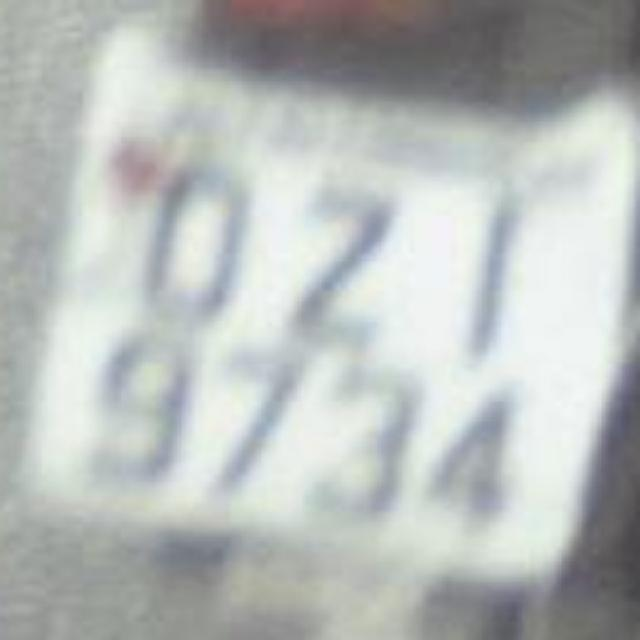3: (271, 329, 424, 536)
4: (396, 356, 532, 564)
7: (184, 315, 311, 520)
O: (120, 132, 265, 336)
Z: (264, 172, 411, 348)
